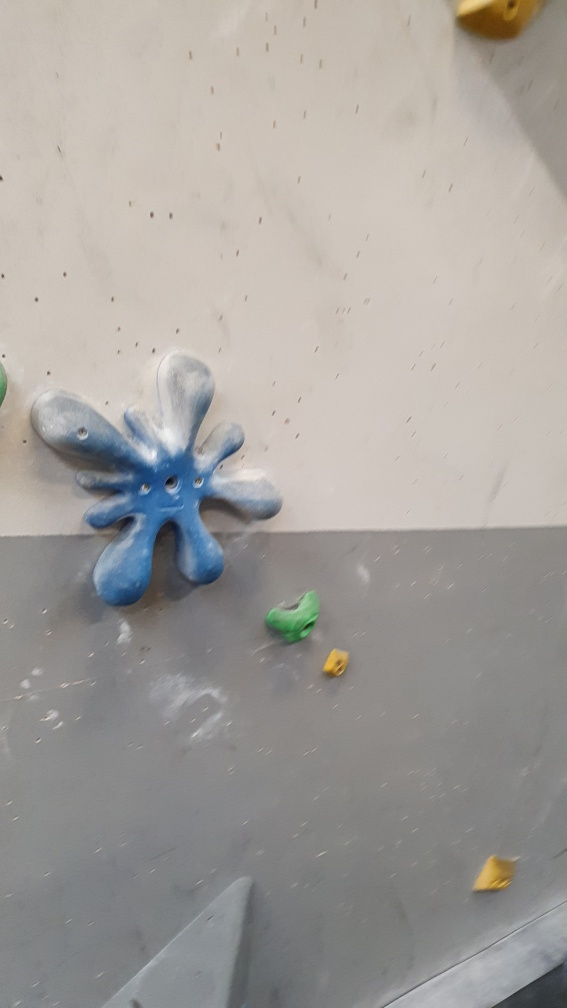Jug: (262, 588, 326, 647)
Octopus Pinch: (26, 351, 284, 614)
